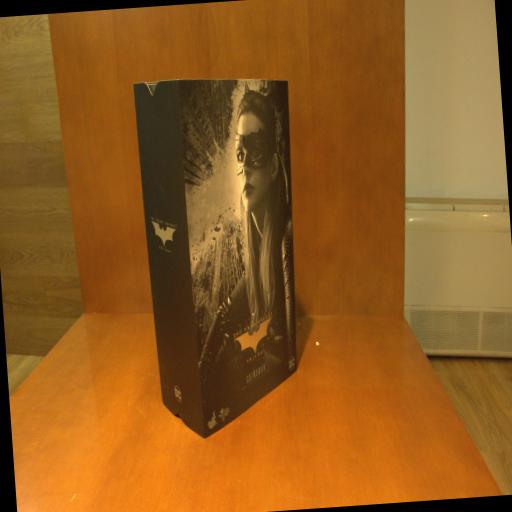catwoman: (133, 69, 315, 438)
